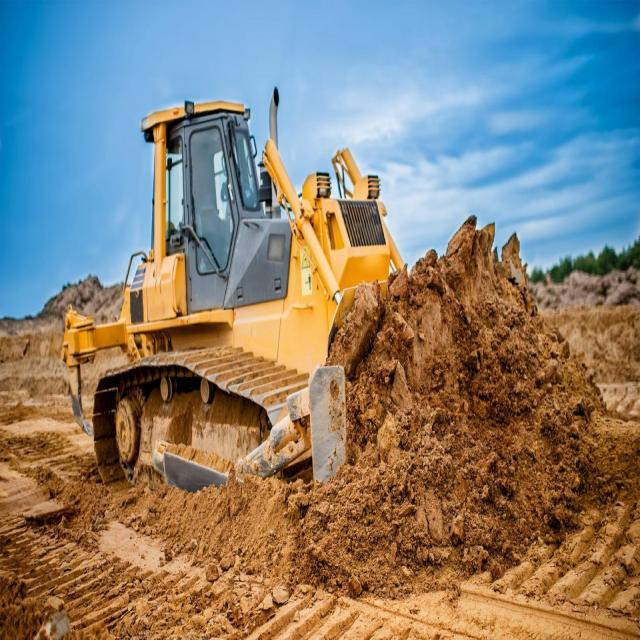Bulldozer: (52, 70, 456, 543)
